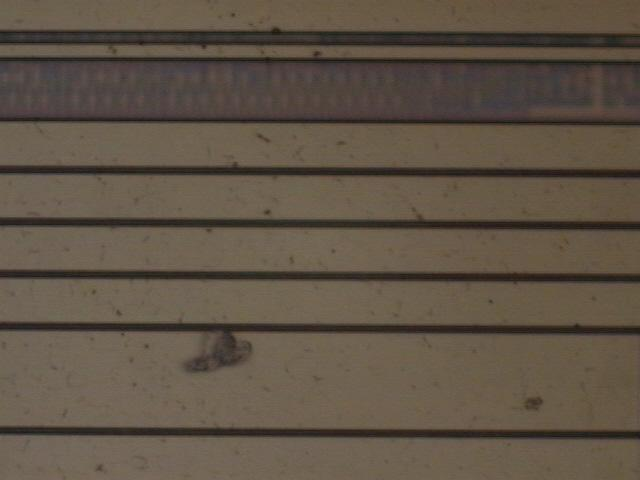PO CONTAMINATION: (100, 2, 549, 419)
